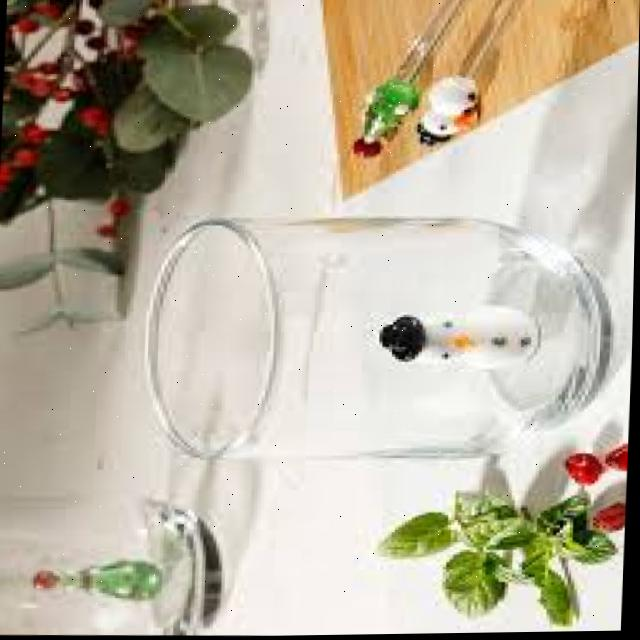Dry: (140, 212, 619, 472)
